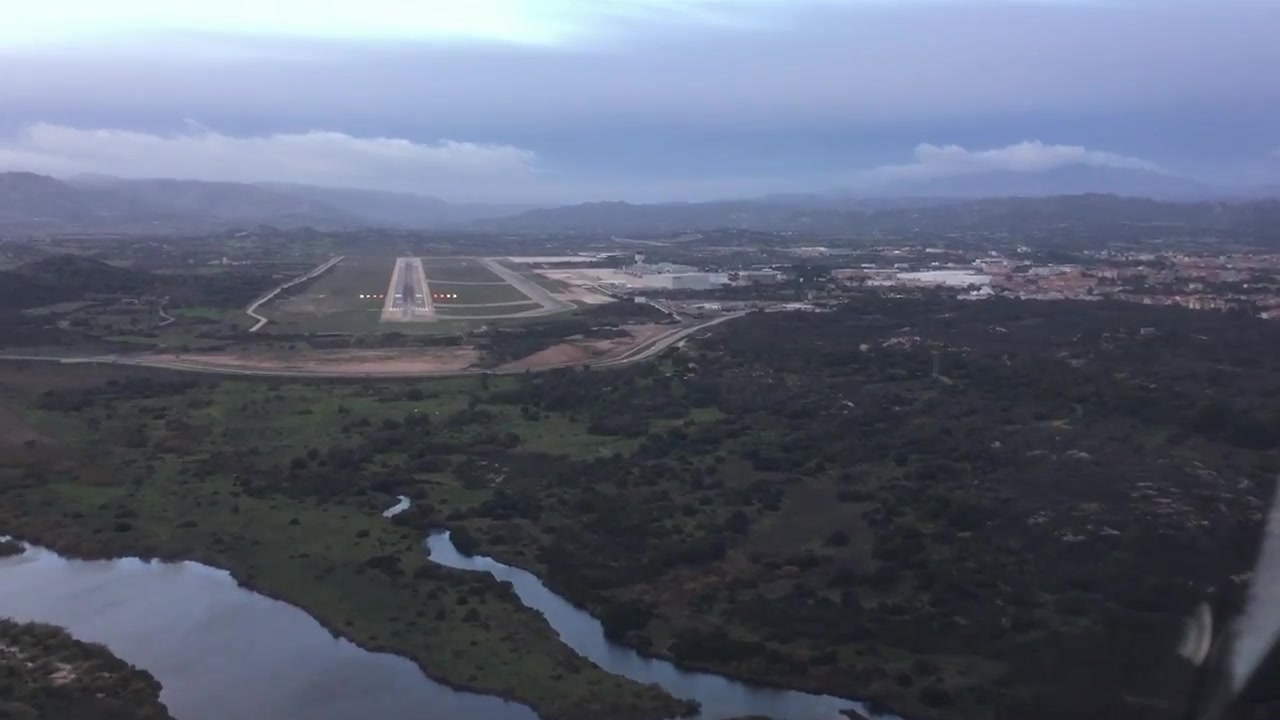entrance: (389, 305, 427, 313)
runway: (380, 254, 438, 319)
